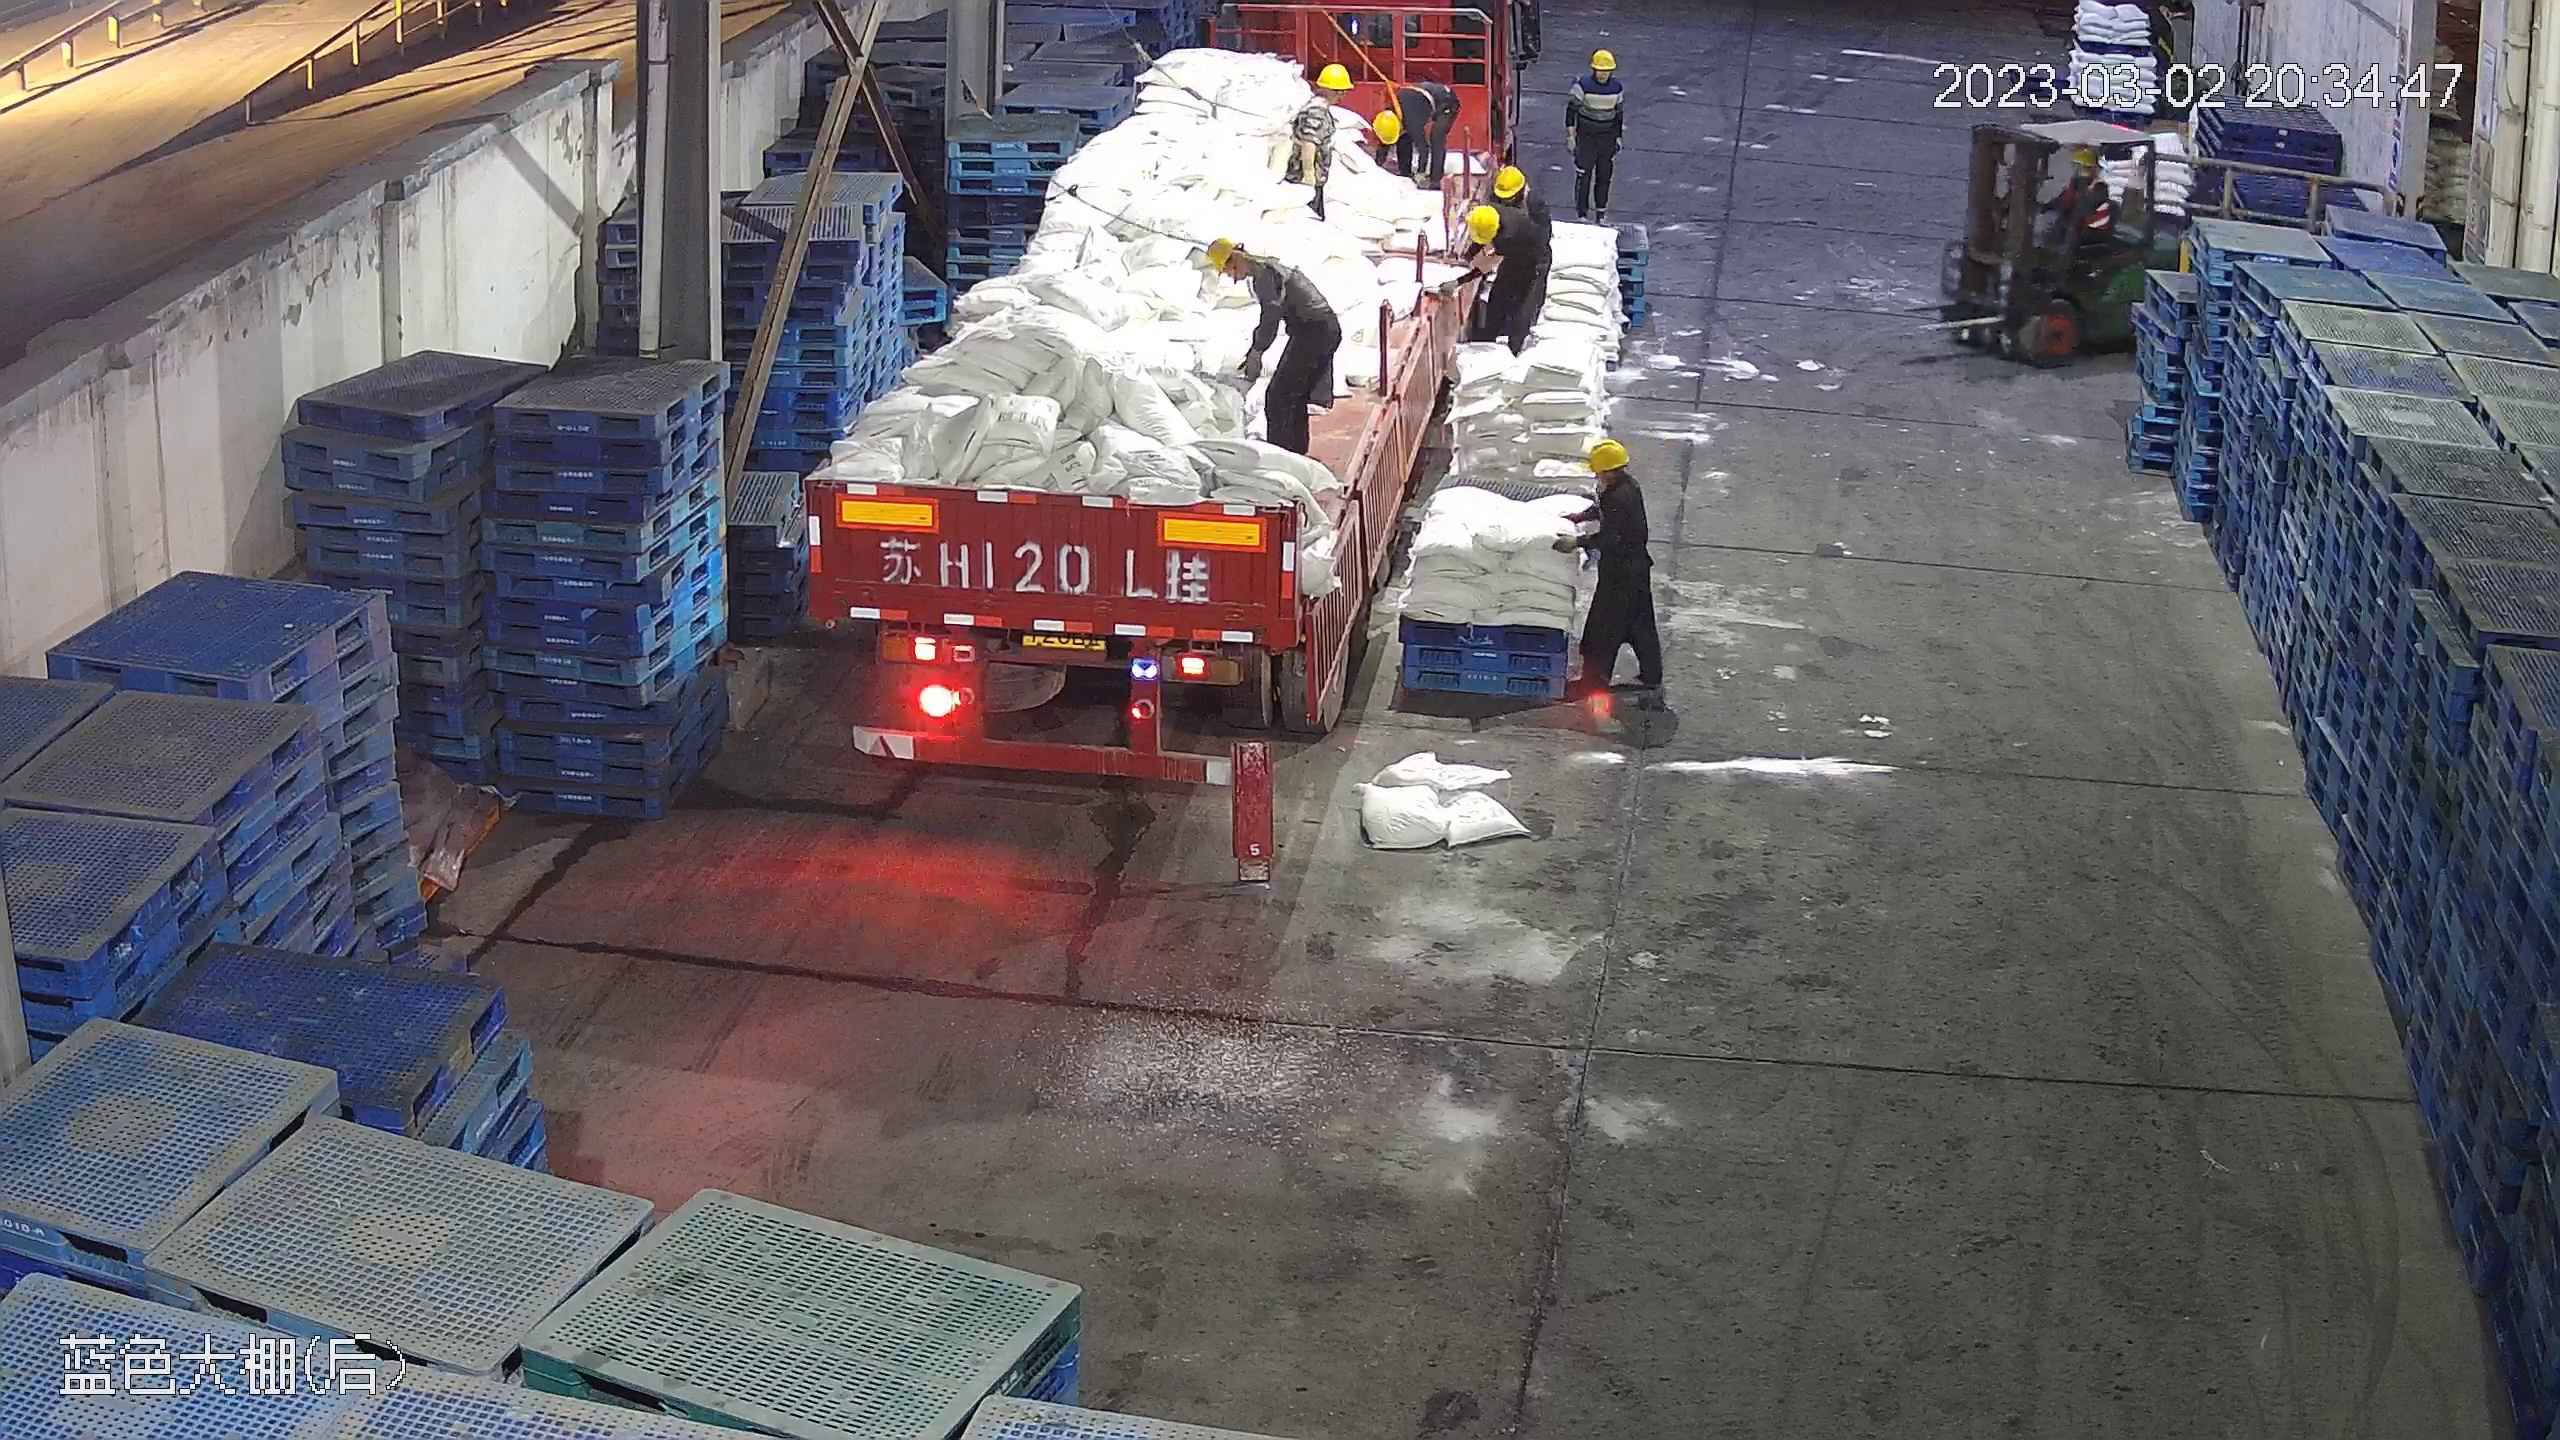belt: (1250, 248, 1319, 308), (1383, 79, 1441, 119), (1281, 96, 1315, 148)
head: (1203, 237, 1295, 312), (1575, 436, 1647, 530), (1297, 62, 1362, 134), (1480, 166, 1544, 240), (1364, 88, 1431, 146), (2061, 142, 2112, 207), (1568, 47, 1625, 103)
helmet: (1583, 435, 1632, 470), (1202, 236, 1241, 278), (1366, 109, 1401, 148), (1466, 200, 1499, 241), (1314, 61, 1353, 91), (1496, 163, 1530, 194), (2071, 144, 2102, 168), (1588, 47, 1619, 71)
people: (1201, 238, 1345, 456), (1562, 432, 1662, 717), (1464, 172, 1549, 355), (1279, 60, 1356, 221), (1564, 45, 1628, 225), (1363, 72, 1448, 186)
truck: (793, 8, 1520, 777)
